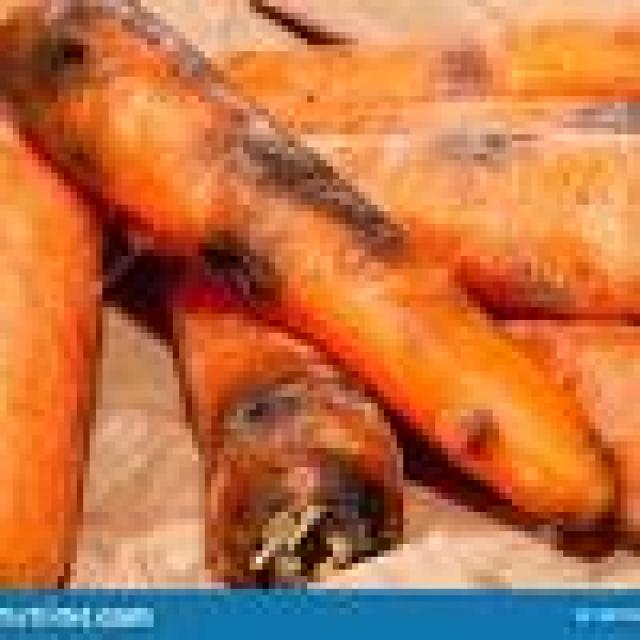Stale_Carrot: (3, 4, 554, 555)
